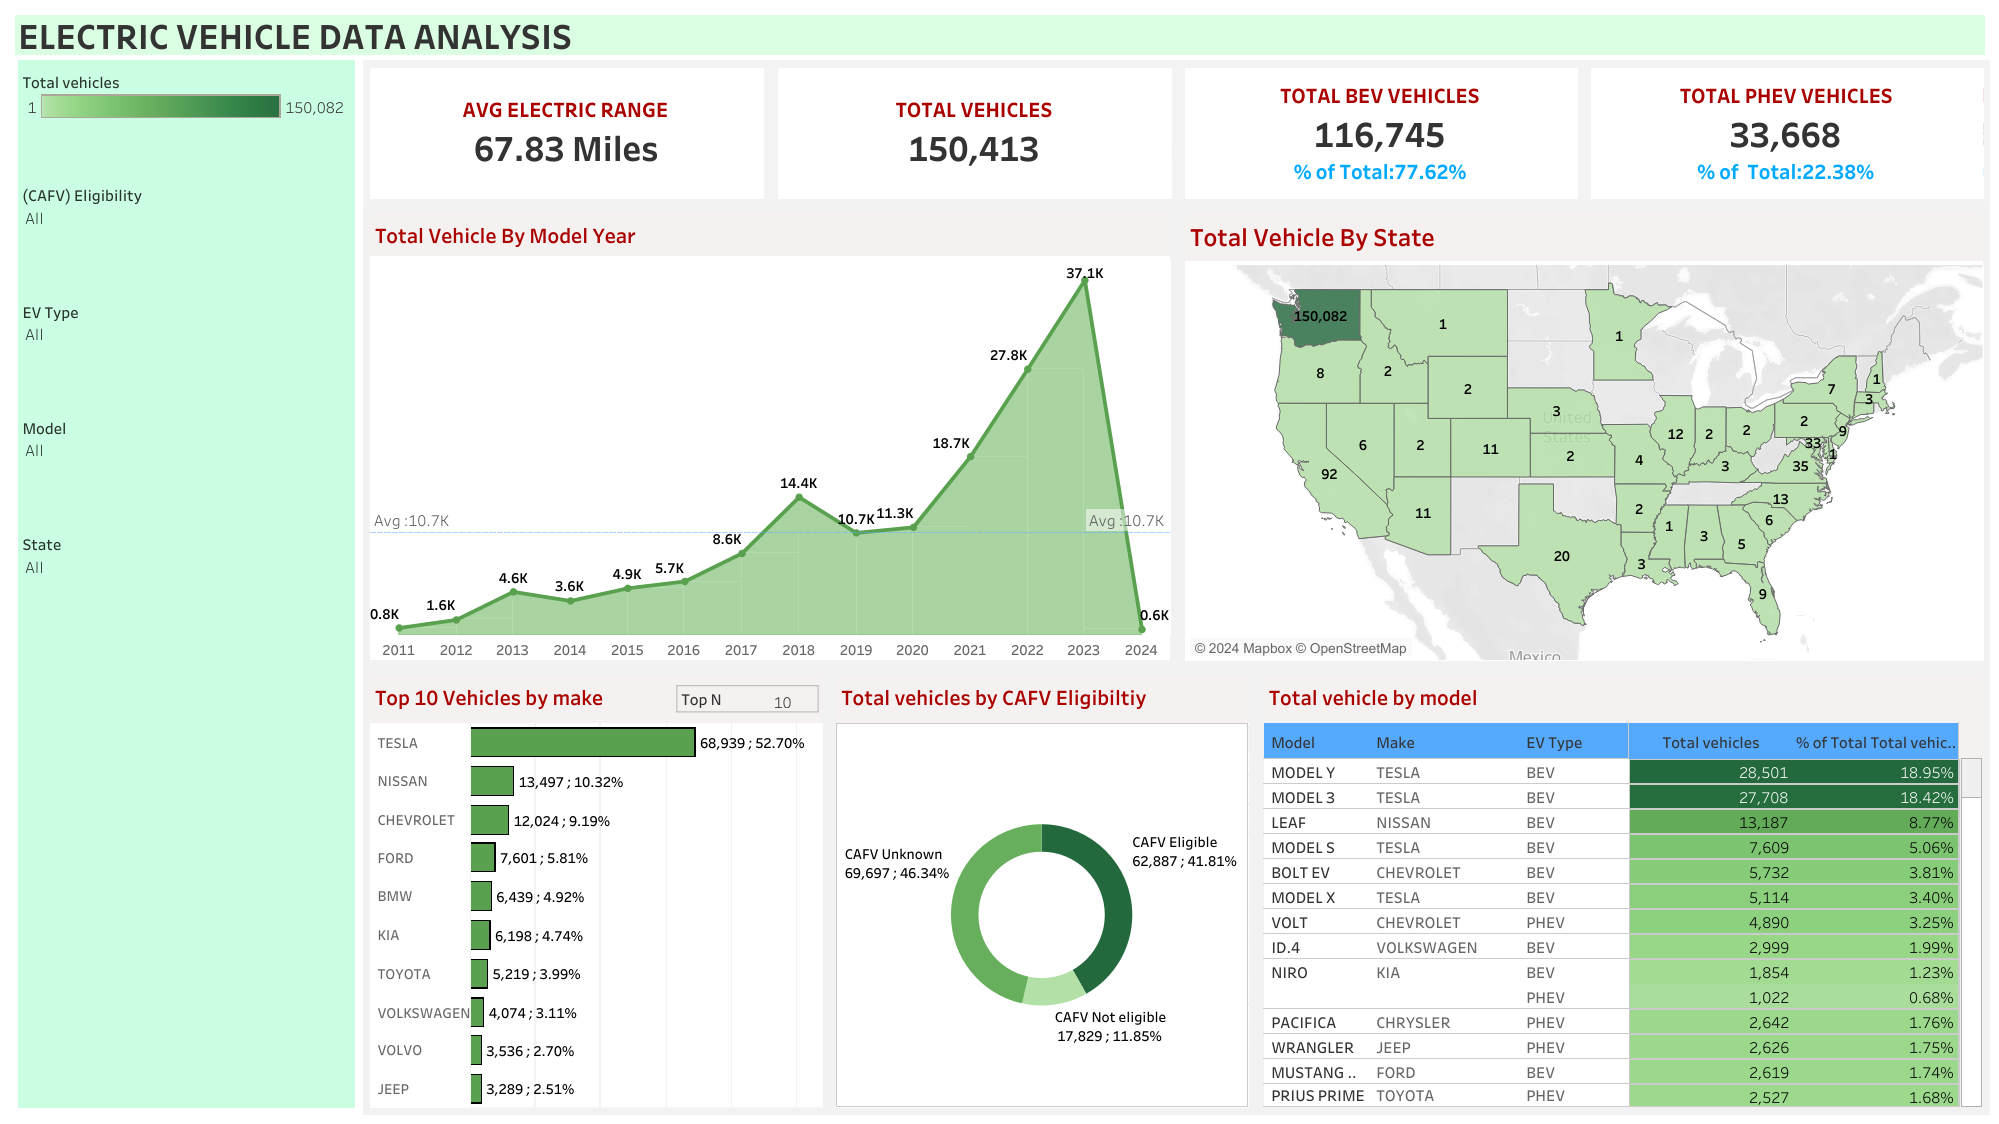

This screenshot's page, from the dashboard's own definition file:
{"tool":"tableau","page":{"name":"Dashboard 1","canvas":[1600,900],"ordinal":0},"visuals":[{"type":"title","box":[8,8,1584,40]},{"type":"legend","title":"Total Vehicle By State","param":"[federated.02motfz1fef6y51ecgicg049mfdq].[usr:Calculation_685954536566784002:qk]","box":[14,48,270,94]},{"type":"worksheet","title":"Avg Electric Range","mark":"Automatic","box":[290,48,326,116]},{"type":"worksheet","title":"Total Vehicles","mark":"Automatic","box":[616,48,326,116]},{"type":"worksheet","title":"Total BEV Vehicles","mark":"Automatic","box":[942,48,325,116]},{"type":"worksheet","title":"Total PHEV Vehicles","mark":"Automatic","box":[1267,48,325,116]},{"type":"filter","title":"Total Vehicle By Model Year","param":"[federated.02motfz1fef6y51ecgicg049mfdq].[none:Clean Alternative Fuel Vehicle (C","box":[14,142,270,93]},{"type":"worksheet","title":"Total Vehicle By Model Year","mark":"Area","rows":["Calculation_685954536566784002","Calculation_685954536566784002"],"cols":["Model Year"],"box":[290,164,651.9,370]},{"type":"worksheet","title":"Total Vehicle By State","mark":"Multipolygon","box":[941.9,164,650.1,370]},{"type":"filter","title":"Total Vehicle By Model Year","param":"[federated.02motfz1fef6y51ecgicg049mfdq].[none:Electric Vehicle Type:nk]","box":[14,235,270,93]},{"type":"filter","title":"Total Vehicle By Model Year","param":"[federated.02motfz1fef6y51ecgicg049mfdq].[none:Model:nk]","box":[14,328,270,93]},{"type":"filter","title":"Total Vehicle By Model Year","param":"[federated.02motfz1fef6y51ecgicg049mfdq].[none:State:nk]","box":[14,421,270,93]},{"type":"blank","box":[14,514,270,93]},{"type":"worksheet","title":"Top 10 Vehicles by Make","mark":"Automatic","rows":["Make"],"cols":["Calculation_685954536566784002"],"box":[290,534,373,358]},{"type":"worksheet","title":"Total vehicles by CAFV Eligibiltiy","mark":"Pie","rows":["Calculation_685954536583614473","Calculation_685954536583614473"],"box":[663,534,342,358]},{"type":"worksheet","title":"Total vehicle by model","mark":"Square","rows":["Model","Make","Electric Vehicle Type"],"box":[1005,534,587,358]},{"type":"parameter","param":"[Parameters].[Parameter 1]","box":[541,548,114,22]},{"type":"blank","box":[14,607,270,93]},{"type":"blank","box":[14,700,270,93]},{"type":"blank","box":[14,793,270,93]}]}

Visuals, with their boxes in screenshot pixels (x1, y1, x2, y2), scaled from the page's 1600x900 canvas onto the 1999x1124 screenshot:
title: 10, 10, 1989, 60
"Total Vehicle By State" legend: 17, 60, 355, 177
"Avg Electric Range" worksheet: 362, 60, 770, 205
"Total Vehicles" worksheet: 770, 60, 1177, 205
"Total BEV Vehicles" worksheet: 1177, 60, 1583, 205
"Total PHEV Vehicles" worksheet: 1583, 60, 1989, 205
"Total Vehicle By Model Year" filter: 17, 177, 355, 293
"Total Vehicle By Model Year" worksheet (Area marks): 362, 205, 1177, 667
"Total Vehicle By State" worksheet (Multipolygon marks): 1177, 205, 1989, 667
"Total Vehicle By Model Year" filter: 17, 293, 355, 410
"Total Vehicle By Model Year" filter: 17, 410, 355, 526
"Total Vehicle By Model Year" filter: 17, 526, 355, 642
blank: 17, 642, 355, 758
"Top 10 Vehicles by Make" worksheet: 362, 667, 828, 1114
"Total vehicles by CAFV Eligibiltiy" worksheet (Pie marks): 828, 667, 1256, 1114
"Total vehicle by model" worksheet (Square marks): 1256, 667, 1989, 1114
parameter: 676, 684, 818, 712
blank: 17, 758, 355, 874
blank: 17, 874, 355, 990
blank: 17, 990, 355, 1107
